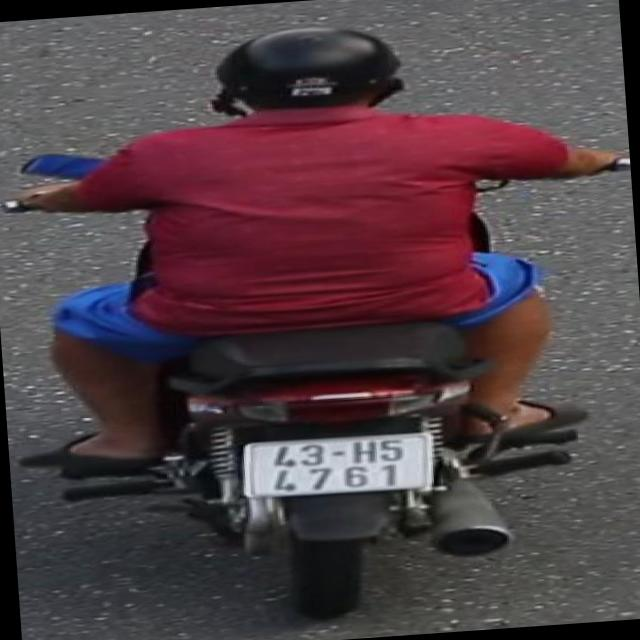LP: (232, 426, 439, 506)
helmet: (184, 16, 432, 136)
